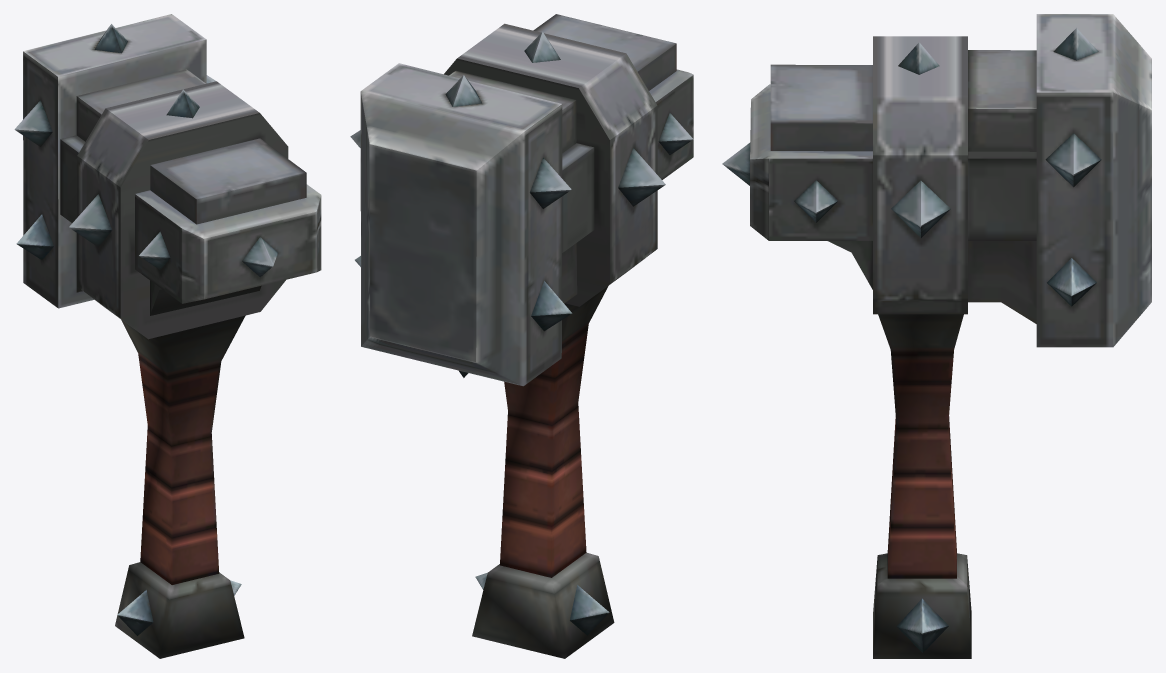
Rendered from hammer_02.fbx.
3 renders of one model, left to right at view 1: azimuth 30°, elevation 25°; view 2: azimuth 150°, elevation 25°; view 3: azimuth 270°, elevation 25°, orthographic. The views are drawn at different scales.
Parts seen in each view (by area): view 1: weaponset03_04; view 2: weaponset03_04; view 3: weaponset03_04.
Part boxes in pixels (bbox=[...]): weaponset03_04: bbox=[14, 14, 321, 658]; weaponset03_04: bbox=[350, 14, 693, 658]; weaponset03_04: bbox=[722, 14, 1151, 658].
Bounding box in the file's own units: 0.5545 × 1.29 × 0.8216.
